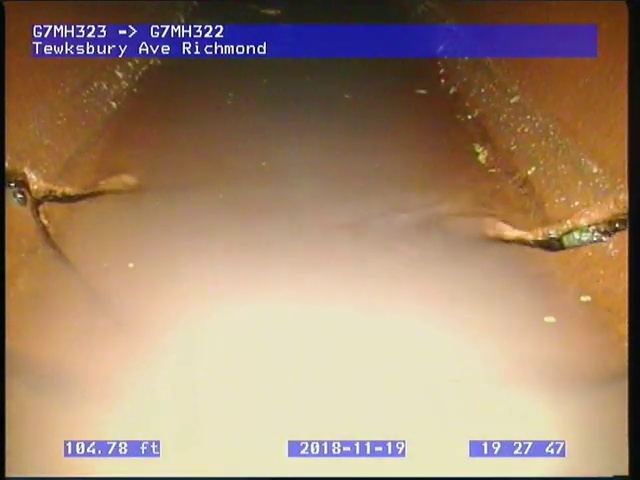crack: (6, 161, 148, 272), (488, 208, 625, 255)
